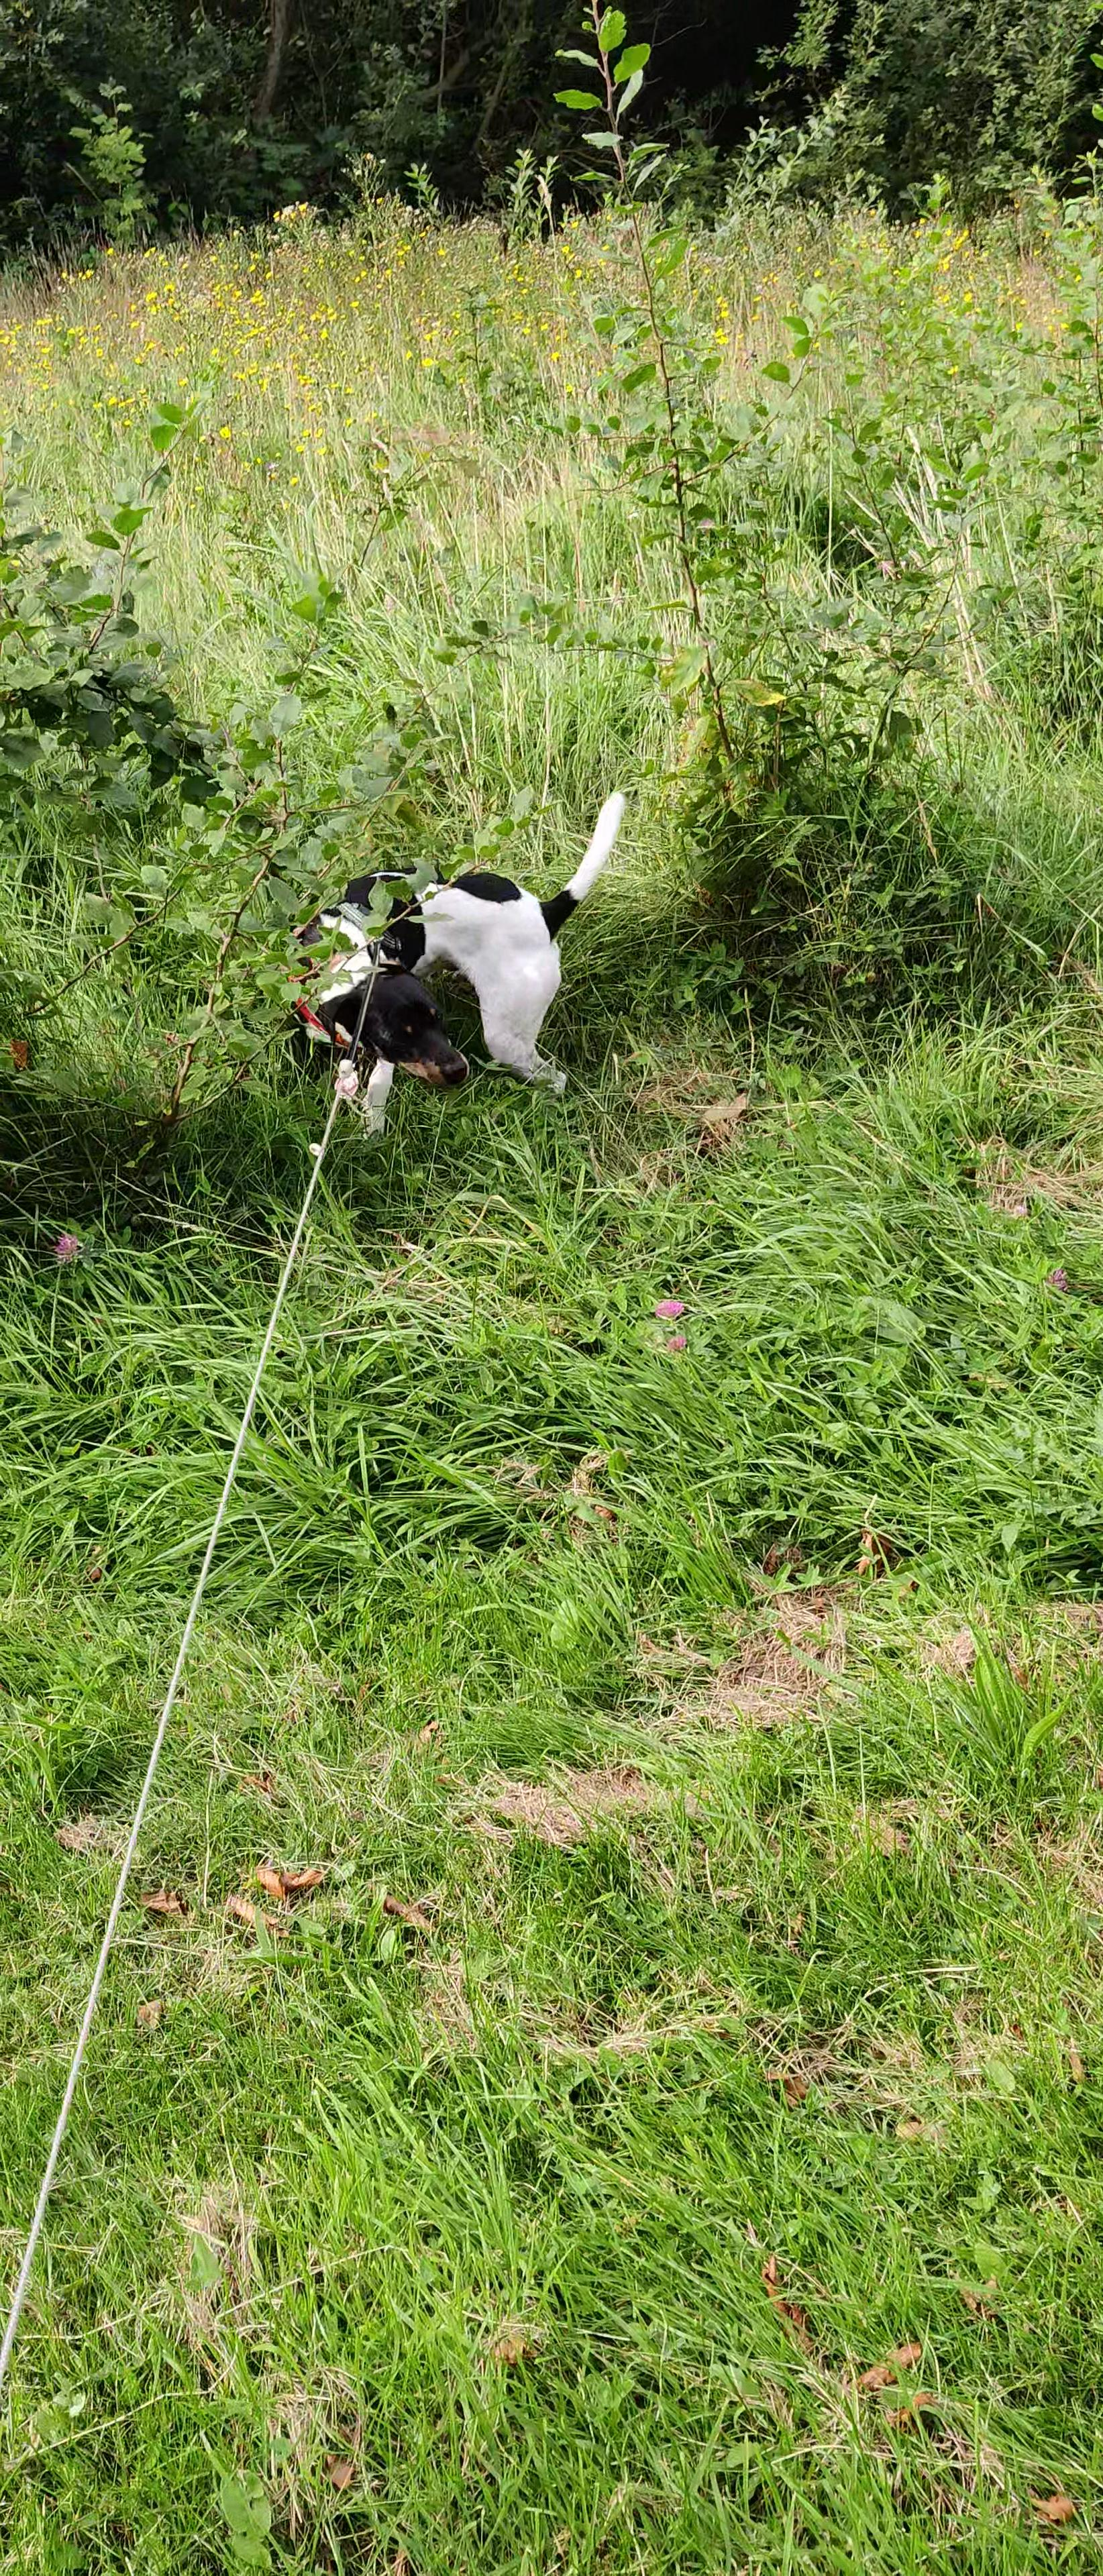Dog: (268, 766, 638, 1142)
